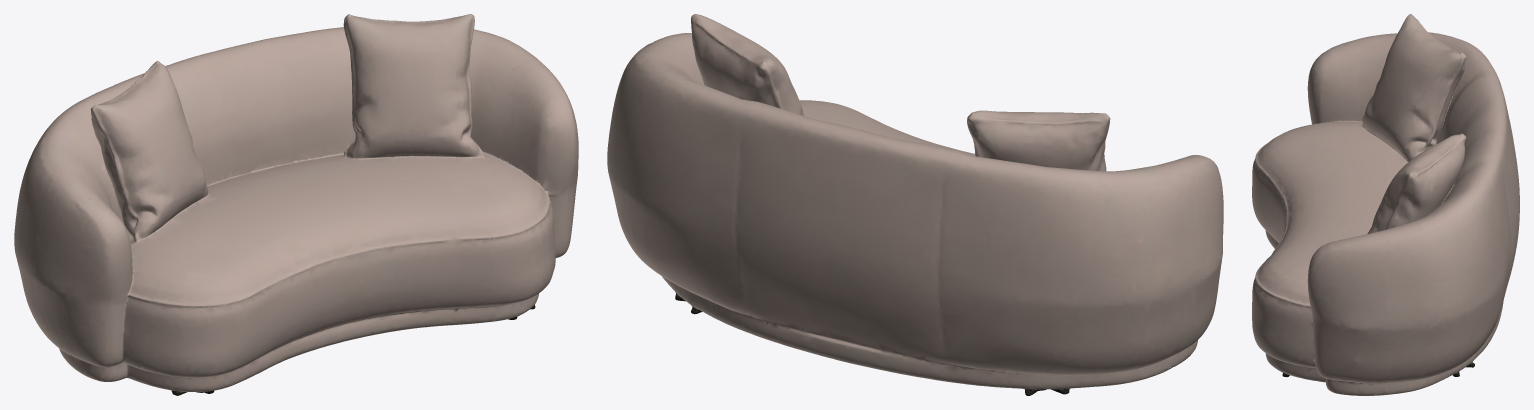
Rendered from sofa-3.glb.
The picture shows the model from 3 angles, left to right: view 1: azimuth 30°, elevation 25°; view 2: azimuth 150°, elevation 25°; view 3: azimuth 270°, elevation 25°; orthographic projection. The views are drawn at different scales.
Parts seen in each view (by area): view 1: sofa-body, sofa-cojin; view 2: sofa-cojin, sofa-body; view 3: sofa-cojin, sofa-body.
Part boxes in pixels (x1=…): sofa-body: x1=33, y1=59, x2=578, y2=395; sofa-cojin: x1=14, y1=14, x2=540, y2=358; sofa-cojin: x1=607, y1=14, x2=1204, y2=395; sofa-body: x1=653, y1=33, x2=1223, y2=369; sofa-cojin: x1=1382, y1=14, x2=1519, y2=394; sofa-body: x1=1252, y1=34, x2=1389, y2=395.
Size of the model in its own units: 1 by 0.4435 by 0.5105.
Materials: 1 (1 with a texture image).
